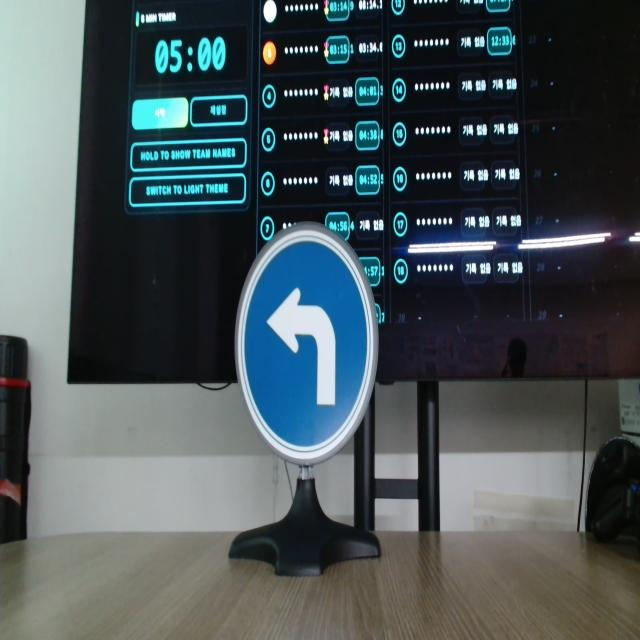left_direction: (232, 225, 380, 462)
